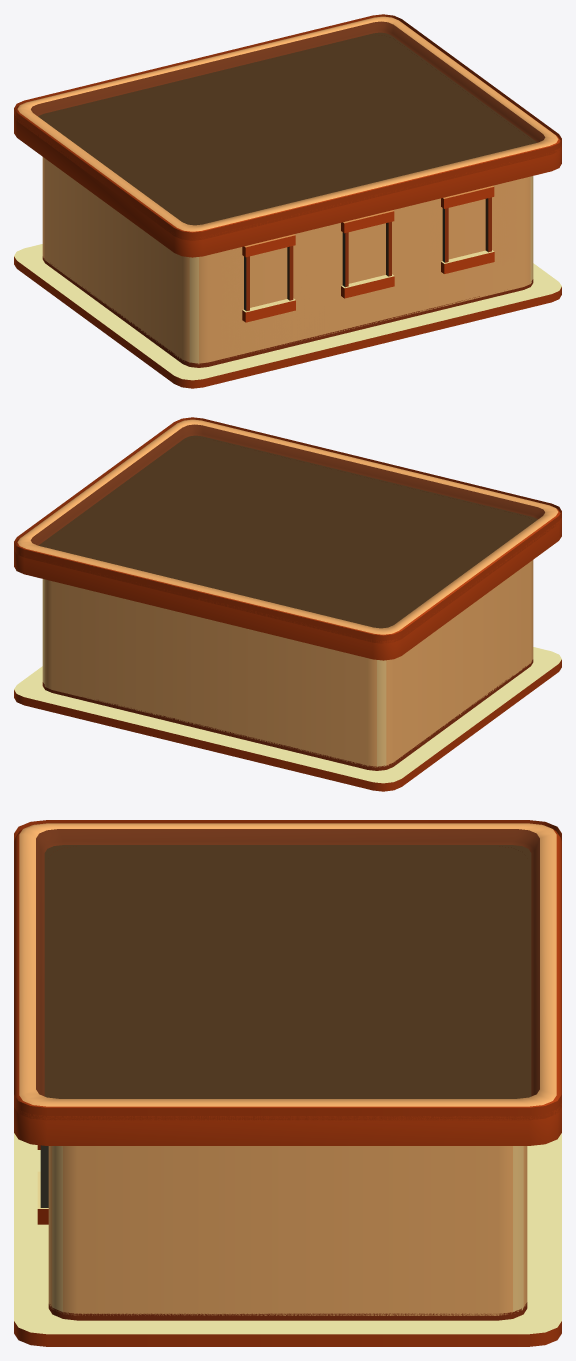
Rendered from humanchain_building_old_new.fbx.
3 views of the same model, one above another, from view 1: azimuth 30°, elevation 25°; view 2: azimuth 150°, elevation 25°; view 3: azimuth 270°, elevation 25° (orthographic). The views are drawn at different scales.
Visible parts, largest first — view 1: humanchain_building_windowed, humanchain_building_forglass_roof, humanchain_building_forglass; view 2: humanchain_building_windowed, humanchain_building_forglass_roof, humanchain_building_forglass; view 3: humanchain_building_windowed, humanchain_building_forglass_roof, humanchain_building_forglass.
Part boxes in pixels (left/top/right/bottom): humanchain_building_windowed: left=14, top=14, right=561, bottom=388; humanchain_building_forglass_roof: left=14, top=16, right=561, bottom=387; humanchain_building_forglass: left=42, top=157, right=533, bottom=367; humanchain_building_windowed: left=14, top=417, right=561, bottom=791; humanchain_building_forglass_roof: left=14, top=419, right=561, bottom=791; humanchain_building_forglass: left=42, top=569, right=533, bottom=770; humanchain_building_windowed: left=14, top=820, right=561, bottom=1346; humanchain_building_forglass_roof: left=14, top=823, right=561, bottom=1346; humanchain_building_forglass: left=48, top=846, right=527, bottom=1319.
Size of the model in its own units: 10.96 by 4.25 by 8.83.
